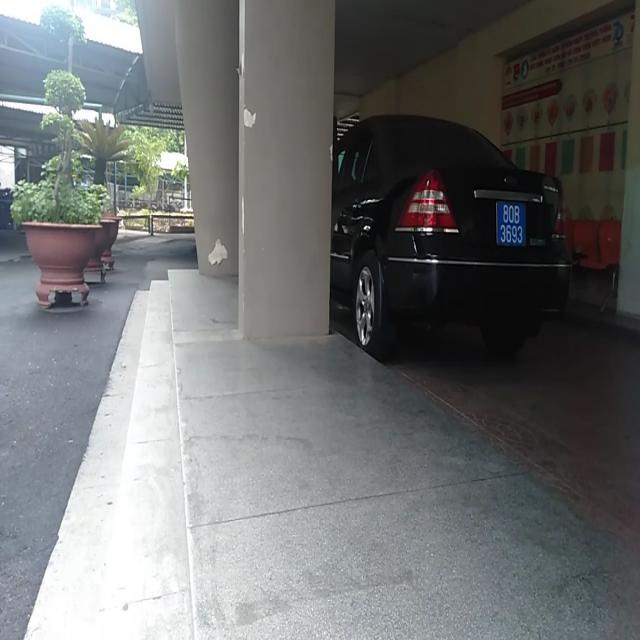bien_xanh: (493, 194, 532, 252)
